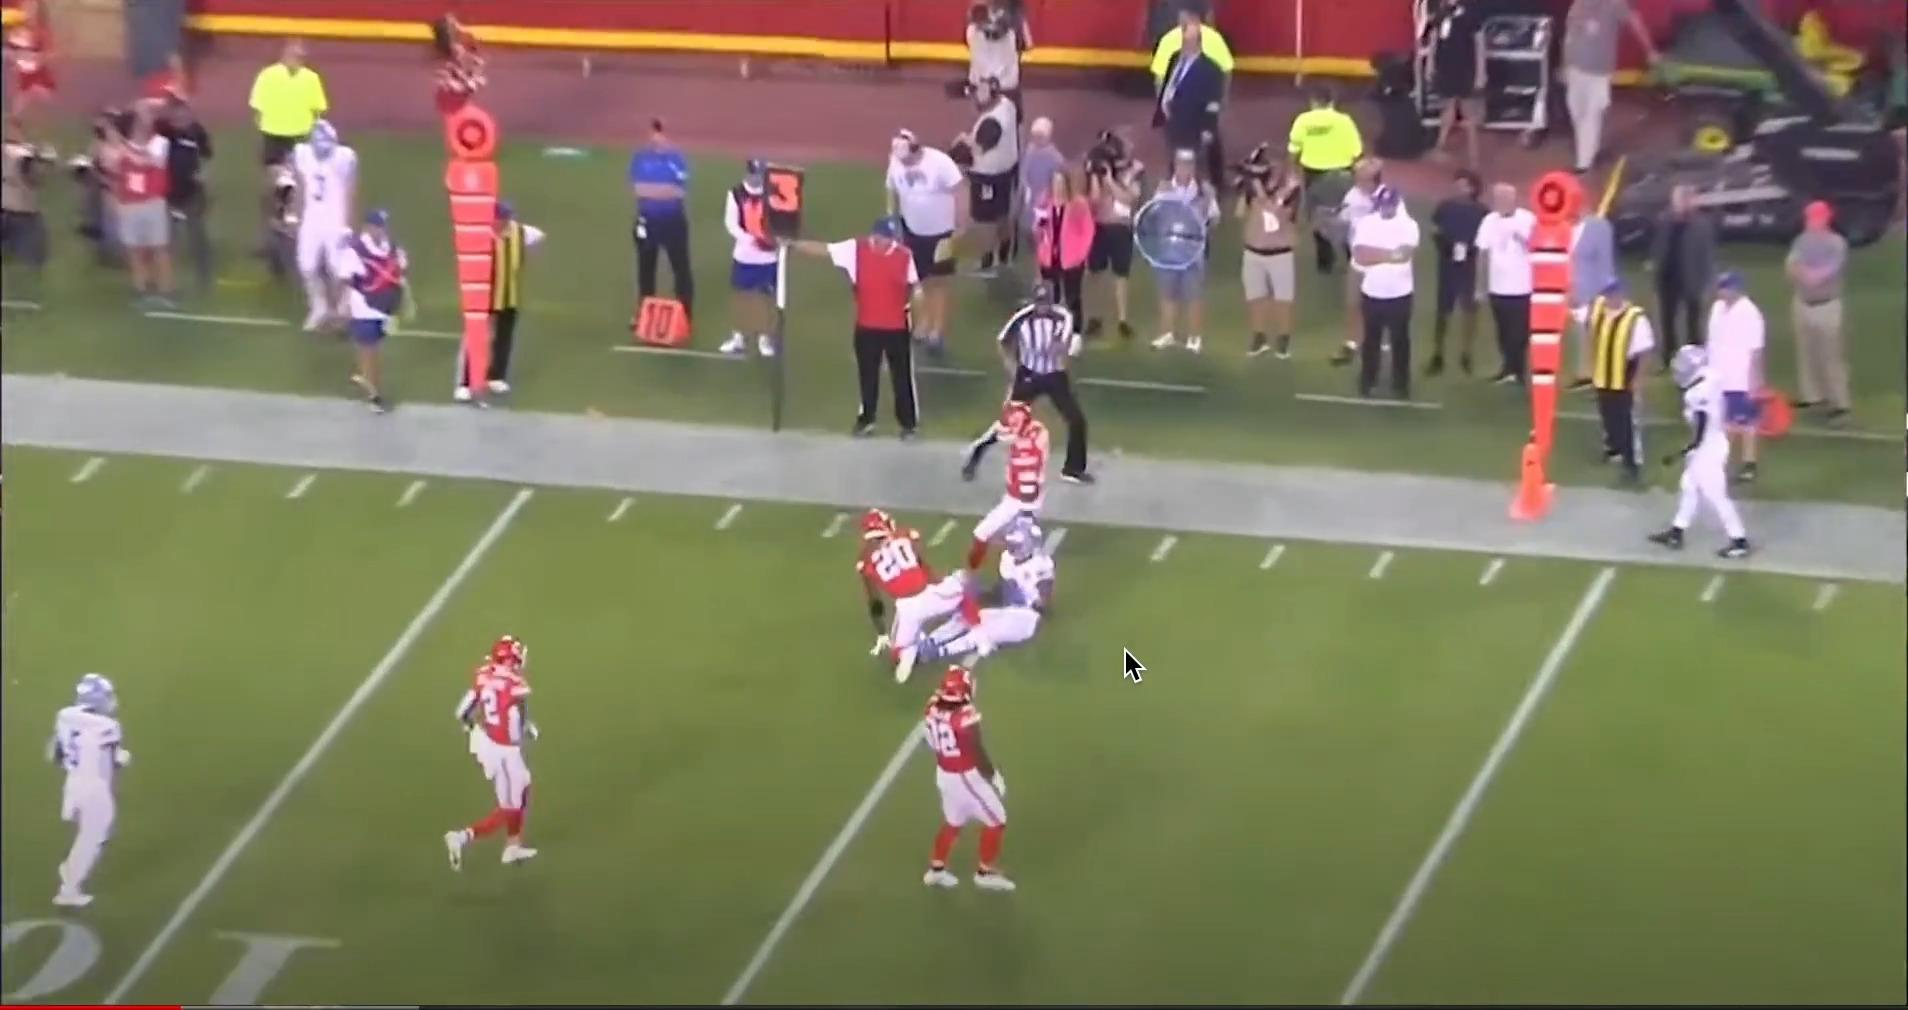defense: (448, 631, 550, 870), (852, 502, 984, 686), (917, 668, 1026, 891), (958, 403, 1056, 578)
ref: (959, 280, 1099, 489)
skill: (29, 675, 135, 927), (1648, 343, 1755, 561), (925, 524, 1060, 663)
